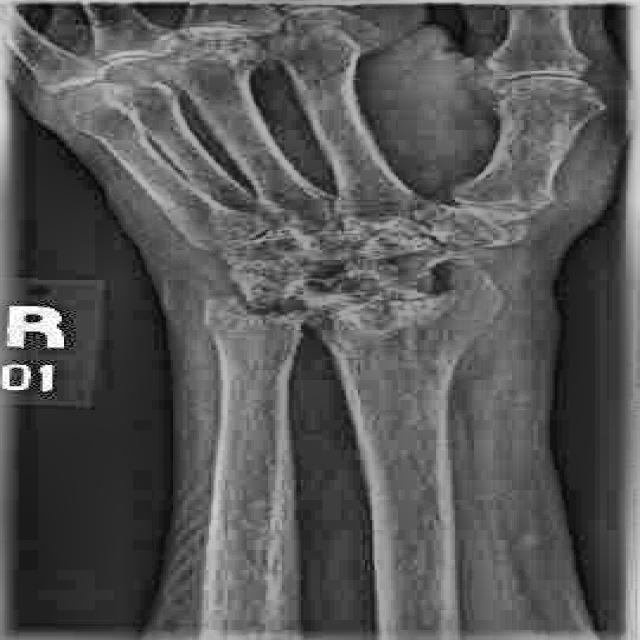wrist positive: (184, 289, 335, 341)
